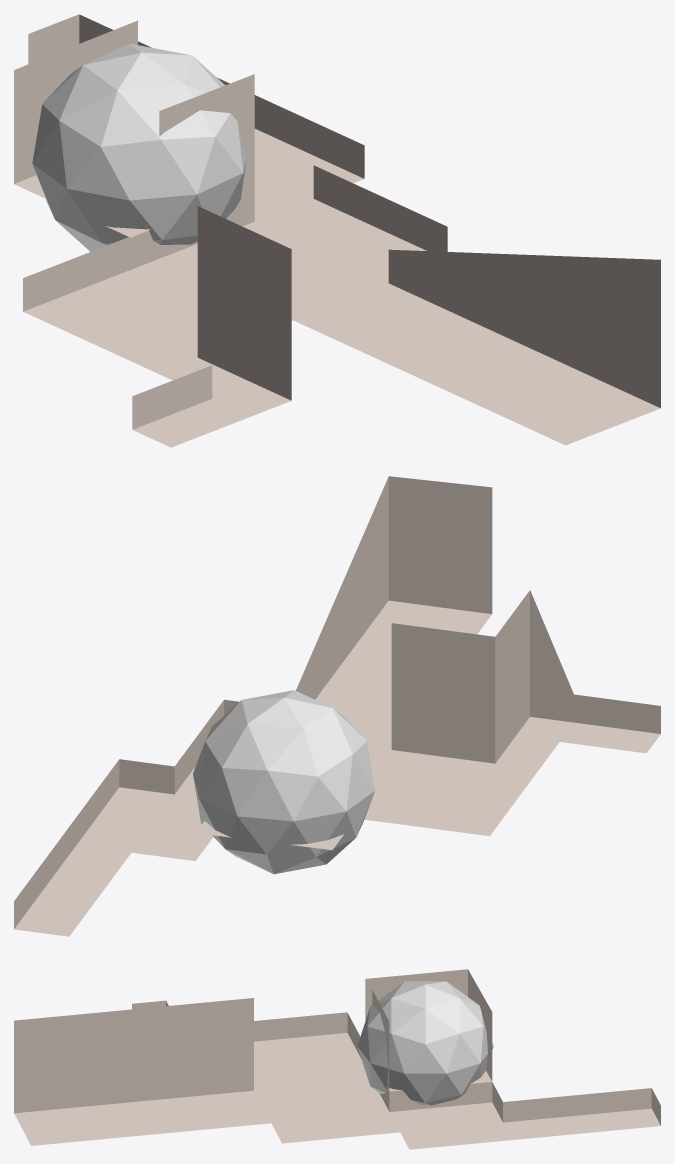
Rendered from staticScene.glb.
3 views of the same model, one above another, from view 1: azimuth 30°, elevation 25°; view 2: azimuth 150°, elevation 25°; view 3: azimuth 270°, elevation 25° (orthographic). The views are drawn at different scales.
Parts seen in each view (by area): view 1: Cube, Icosphere; view 2: Cube, Icosphere; view 3: Cube, Icosphere.
Part boxes in pixels (<box>): Cube: <box>14,14,660,447</box>; Icosphere: <box>32,43,246,251</box>; Cube: <box>14,476,660,936</box>; Icosphere: <box>193,690,375,874</box>; Cube: <box>14,969,660,1149</box>; Icosphere: <box>357,981,493,1105</box>.
Size of the model in its own units: 33.89 by 15.17 by 71.99.
